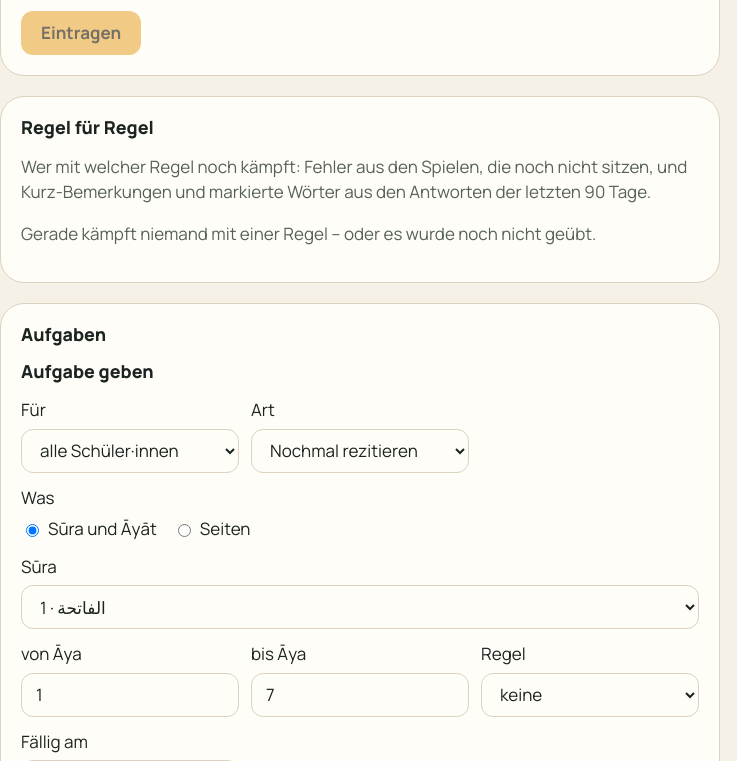
giving assignments on the ḥalaqa page (T2) › gives pages of the sheikh’s IndoPak muṣḥaf, showing the āyāt on them
(page scrolled)
Step 1. Select "Lesen" in the dropdown labelled "Art" → (360, 450), box [251,428,469,472]
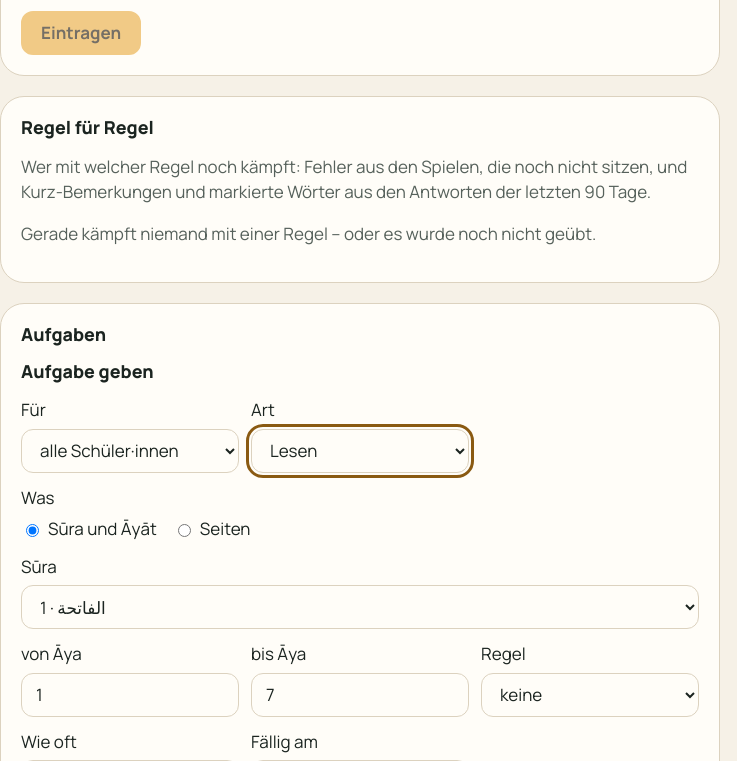
Step 2. Click the radio button labelled "Seiten" → (184, 530), box [178,524,191,537]
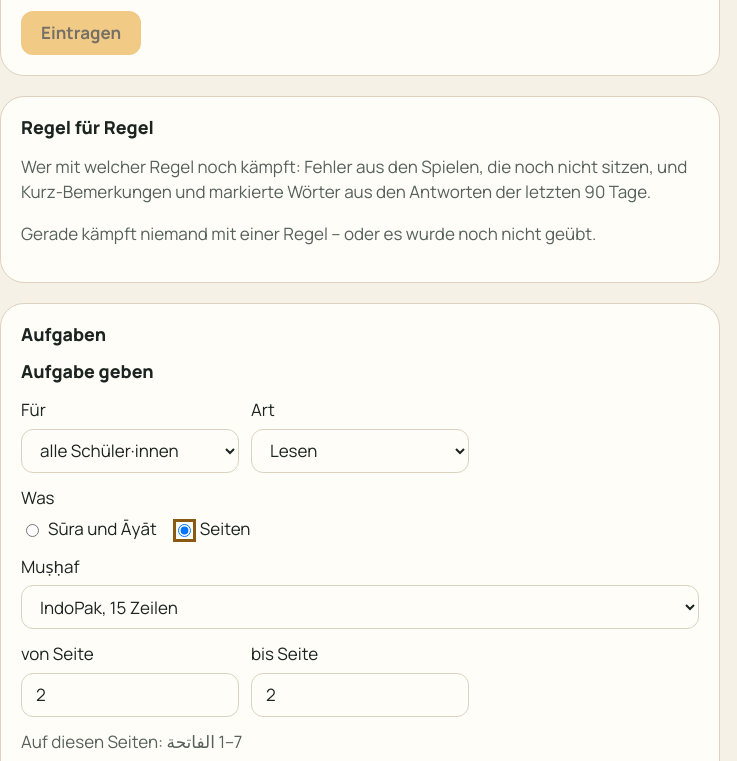
Expected: the dropdown labelled "Muṣḥaf" shows "IndoPak, 15 Zeilen", [21,585,699,629]
Expected: the number field labelled "von Seite" holds "2"
Step 3. Replace the text in the number field labelled "von Seite" with "8" → (130, 694), box [21,672,239,716]
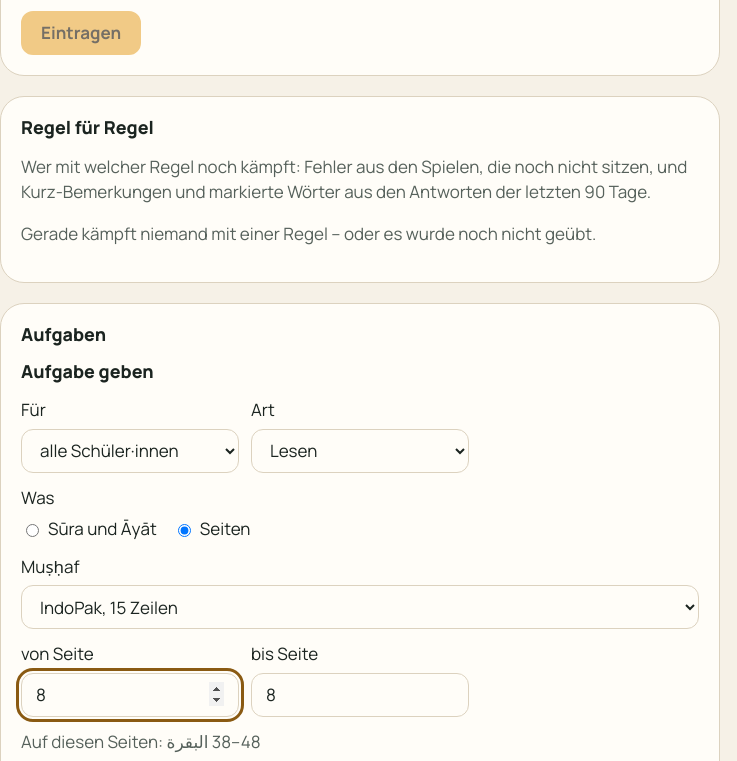
Expected: the number field labelled "bis Seite" holds "8"
Step 4. Replace the text in the number field labelled "bis Seite" with "9" → (360, 694), box [251,672,469,716]
(page scrolled)
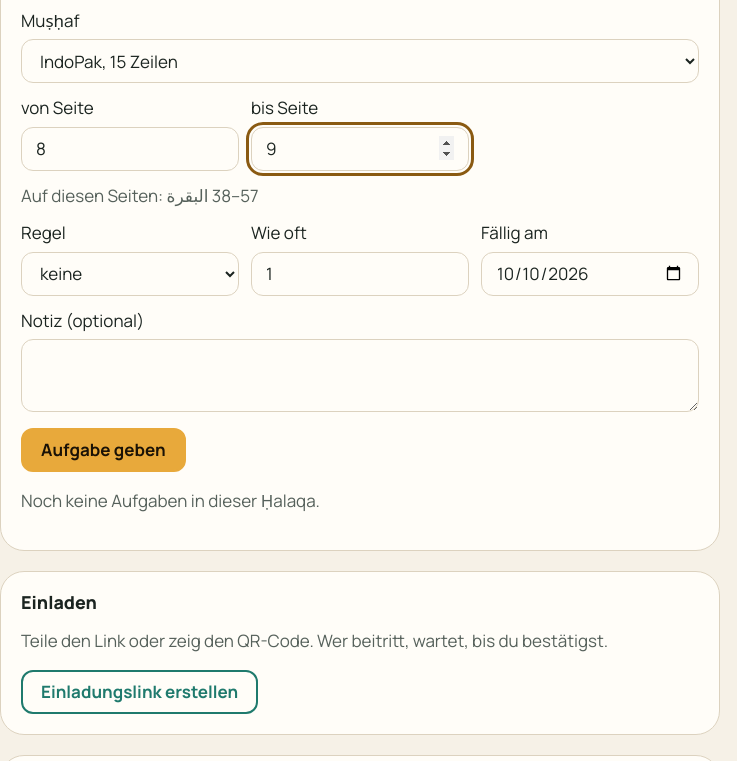
Expected: the text "Auf diesen Seiten: البقرة 38–57" is shown, [21,184,259,206]
Step 5. Click the button "Aufgabe geben" → (103, 450), box [21,428,186,472]
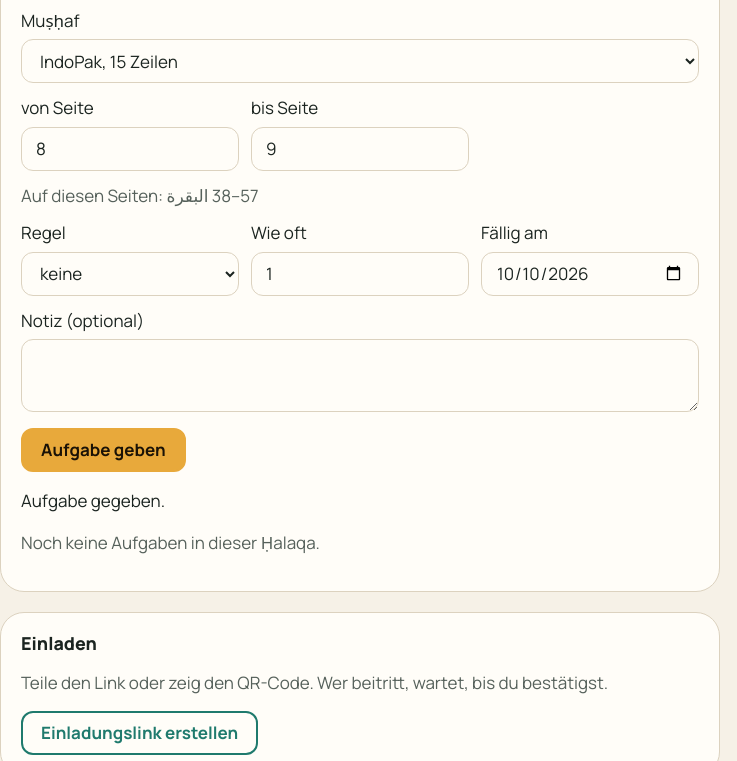
Expected: the text "Aufgabe gegeben." is shown, [21,489,165,512]
